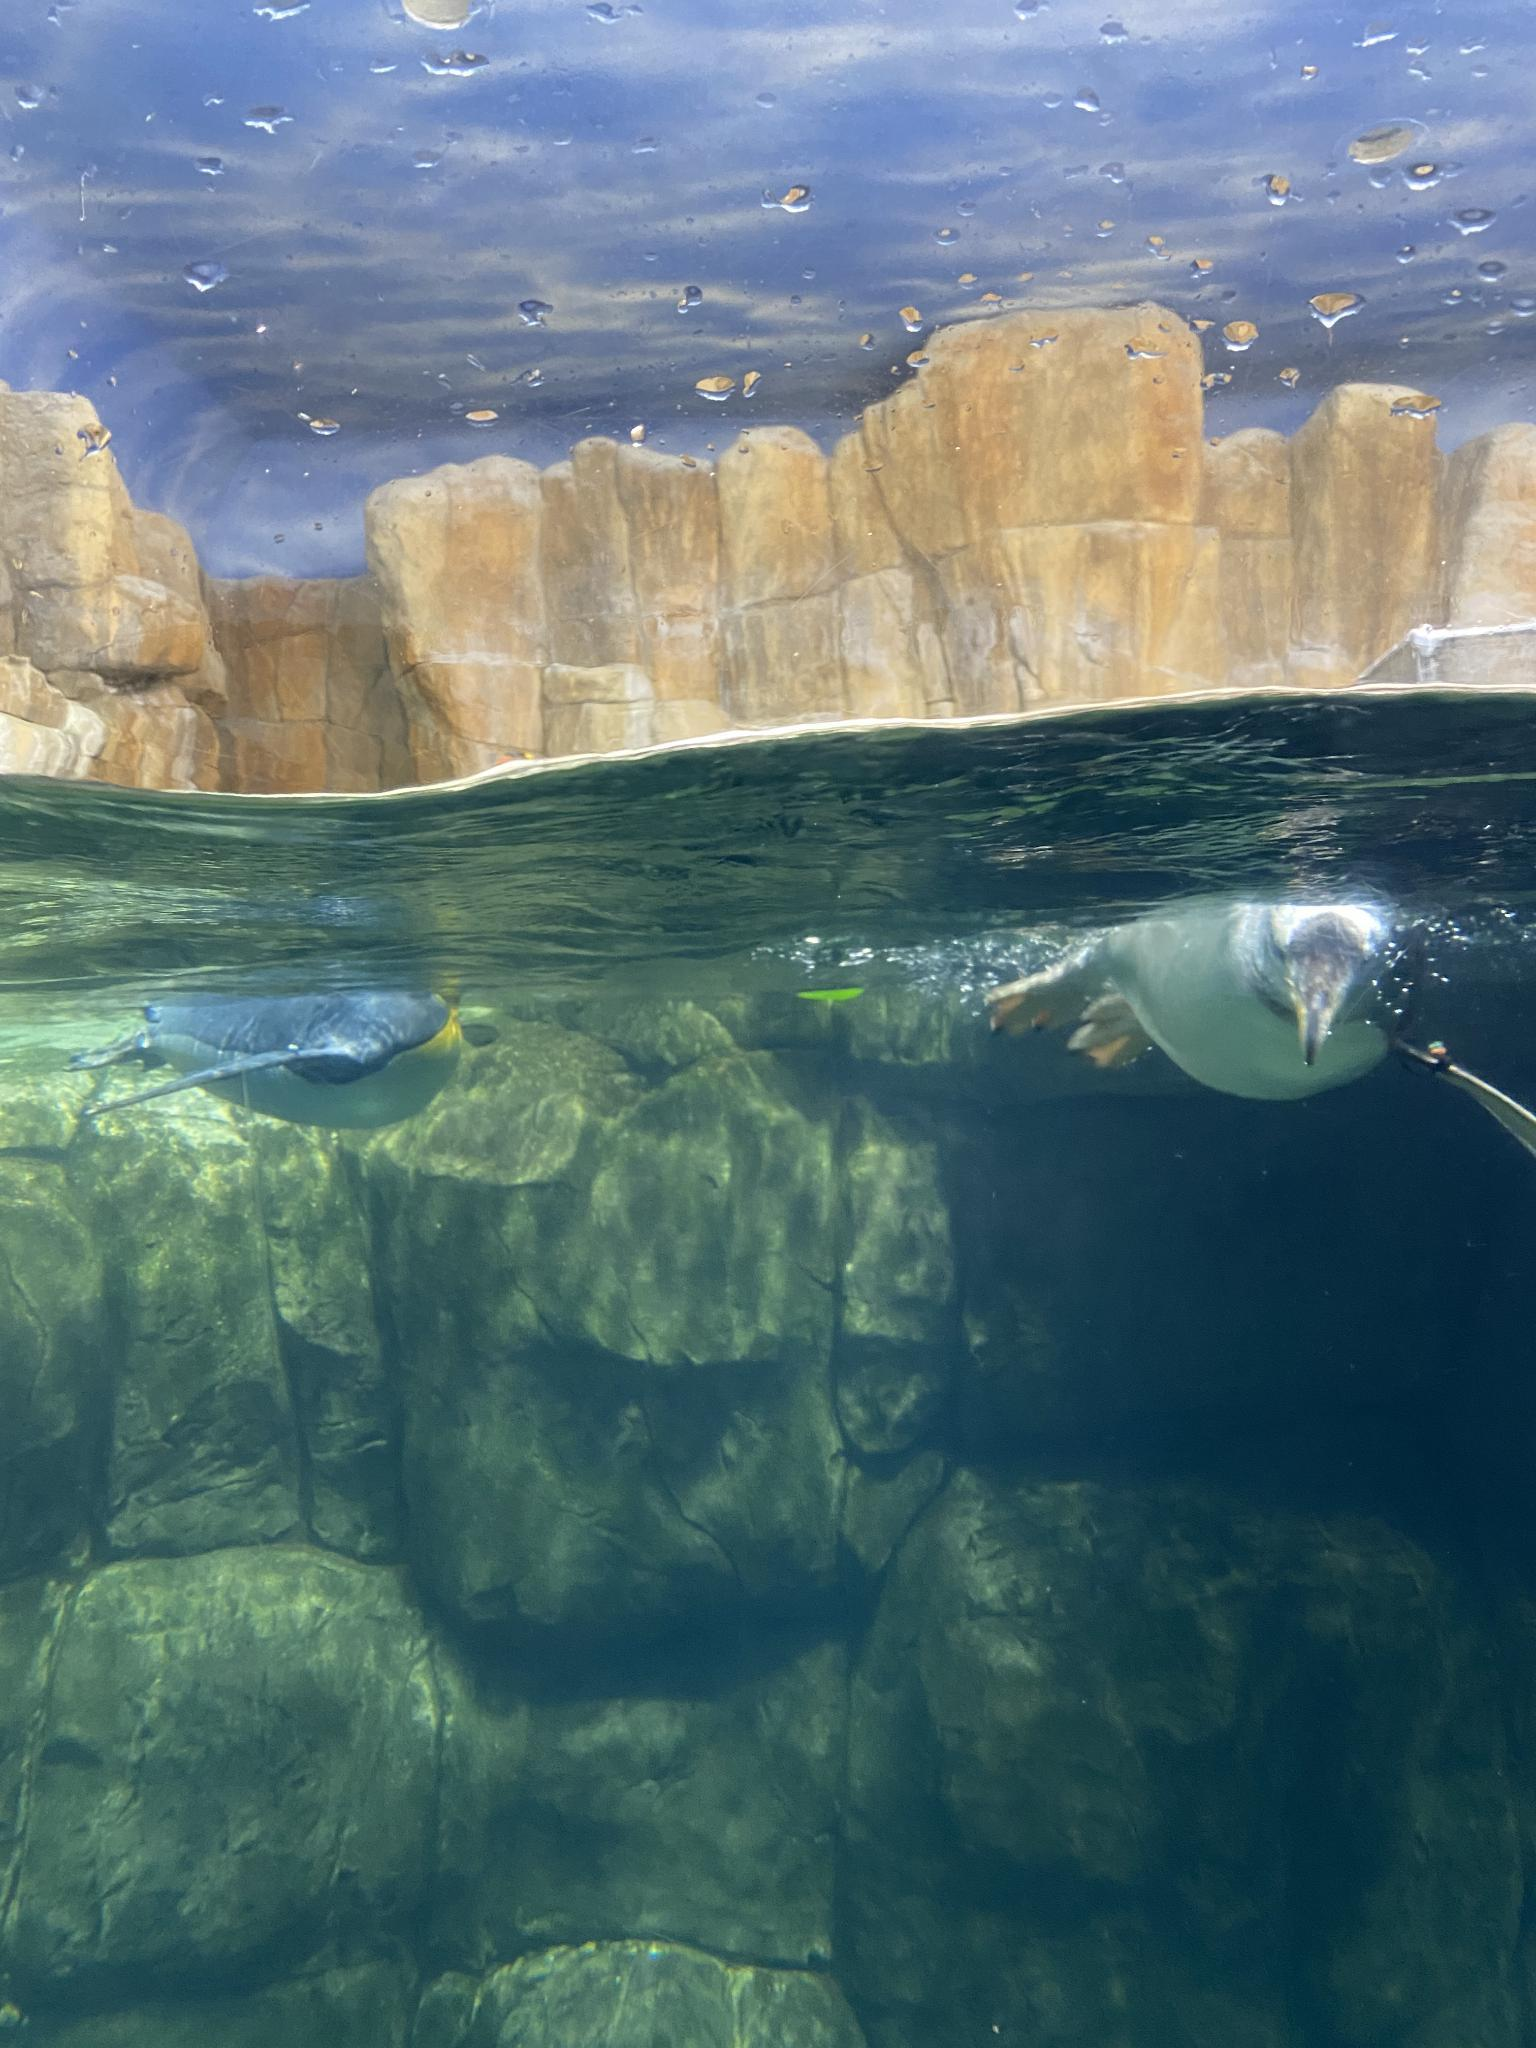penguin: (975, 890, 1536, 1169), (60, 1001, 460, 1142)
